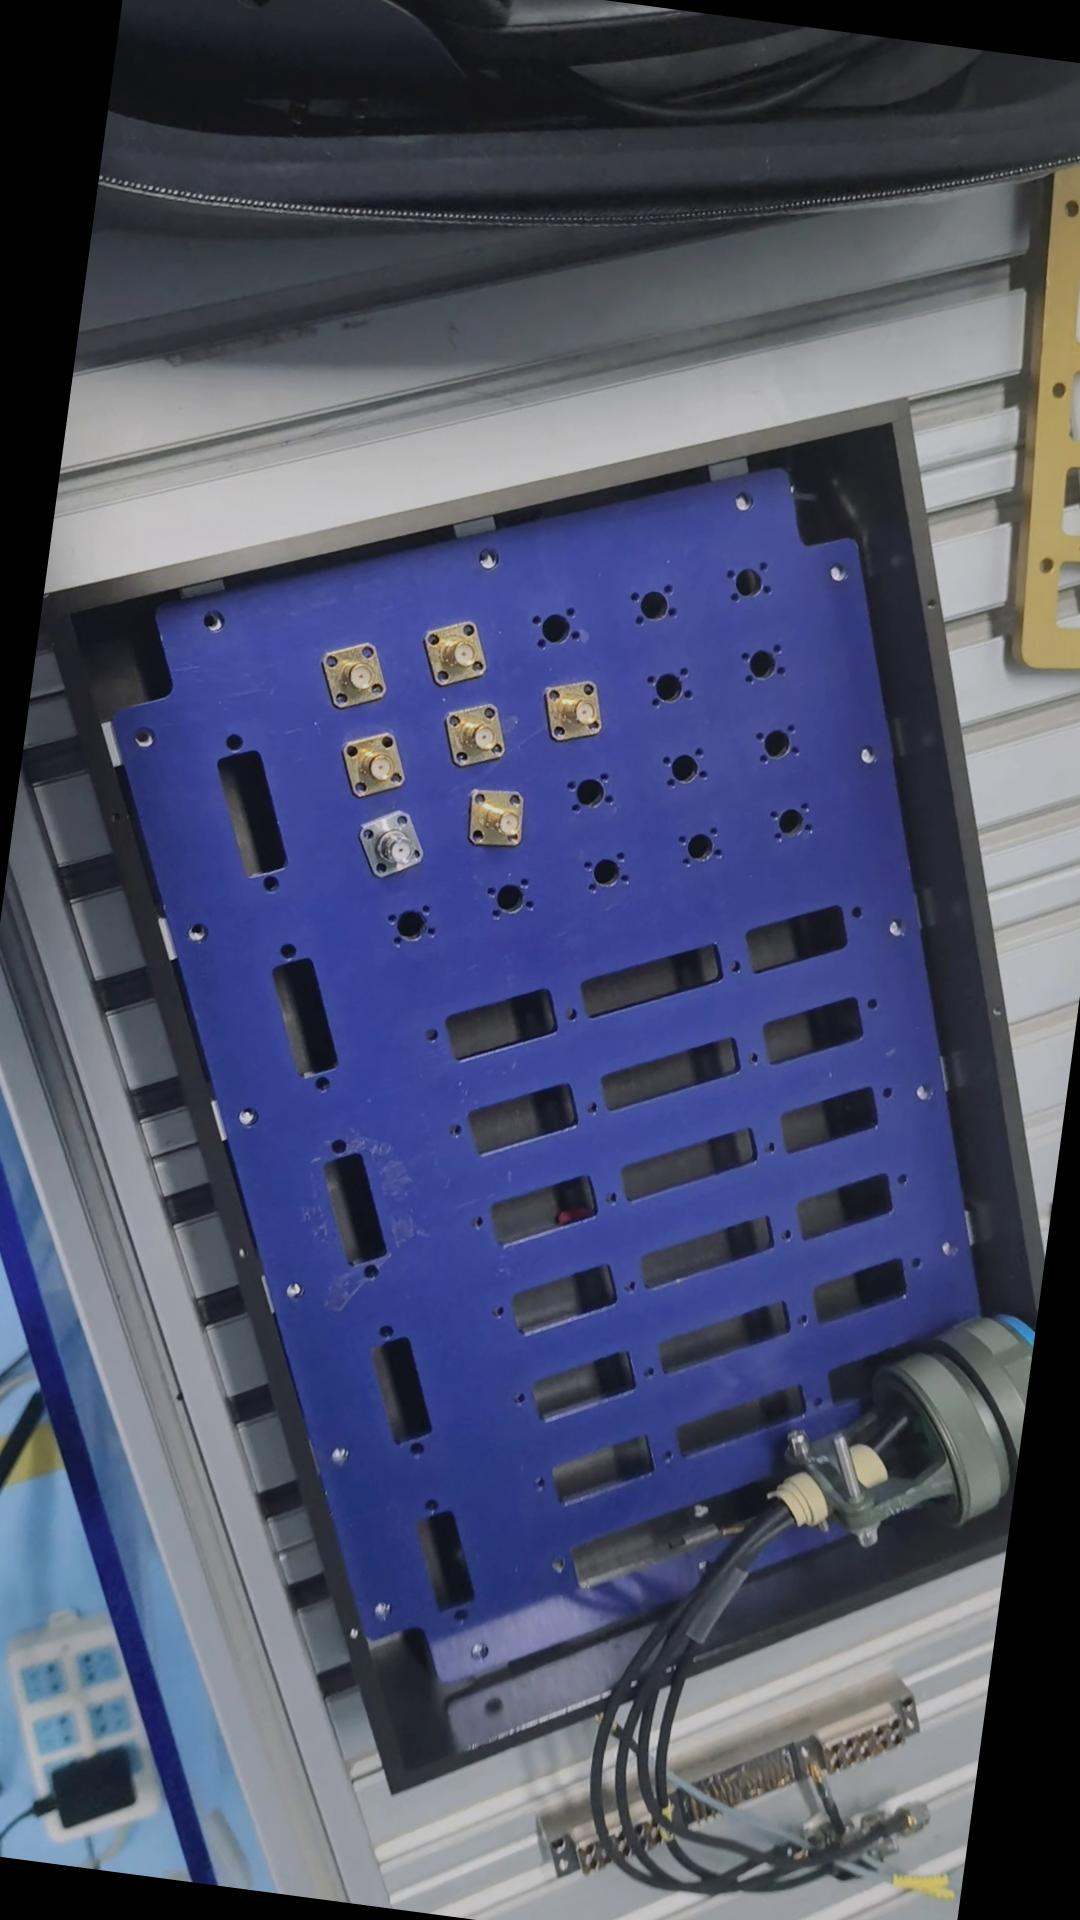SMA: (419, 611, 497, 694), (360, 802, 436, 882), (434, 694, 514, 767), (318, 640, 394, 711), (342, 732, 414, 803), (543, 675, 612, 750), (465, 789, 535, 851)
